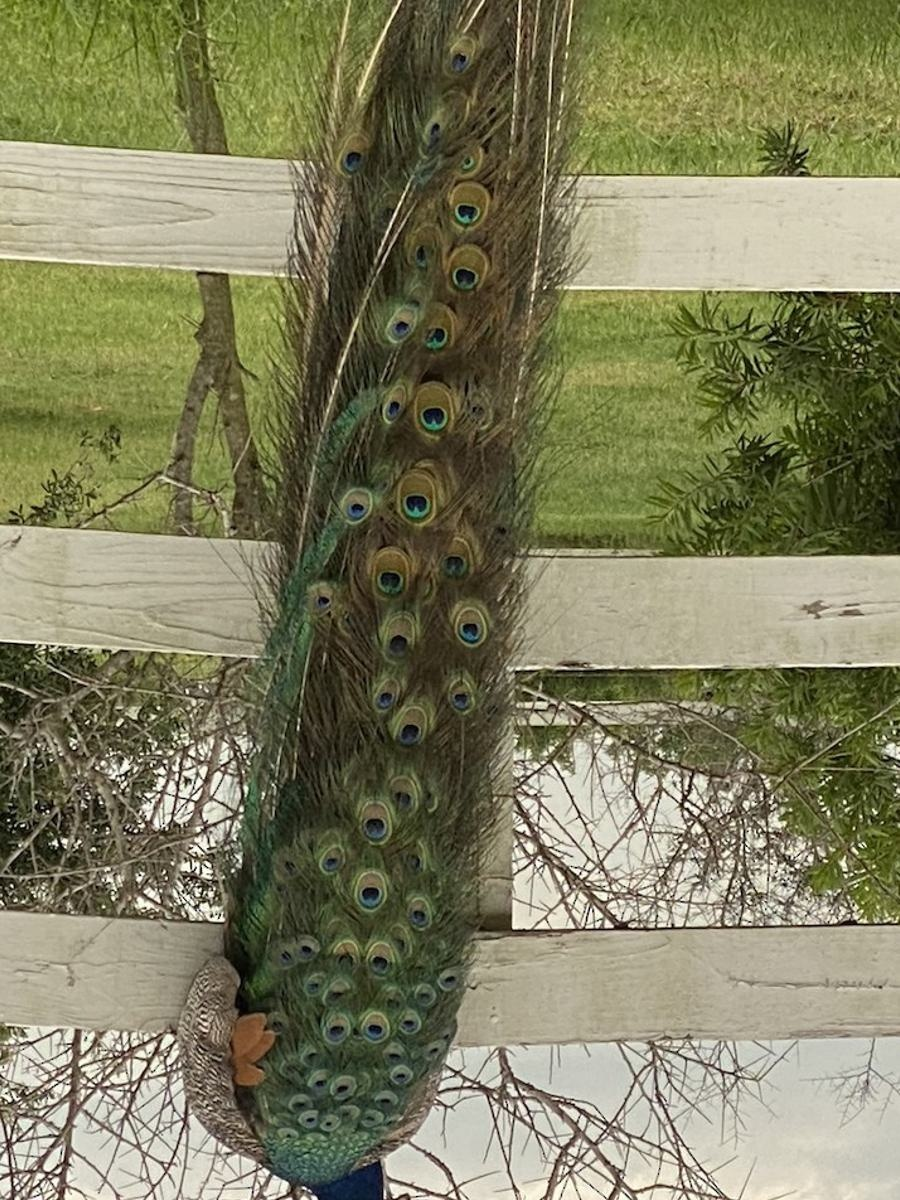peacock: (256, 27, 576, 1200)
